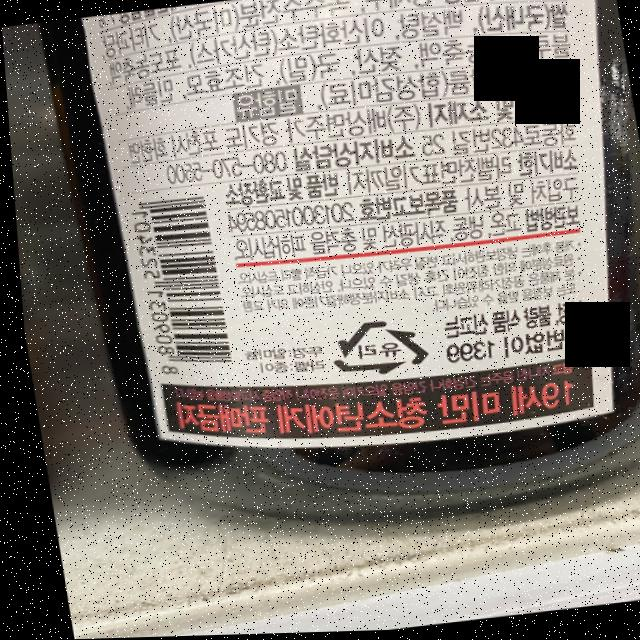Glass: (316, 314, 429, 385)
